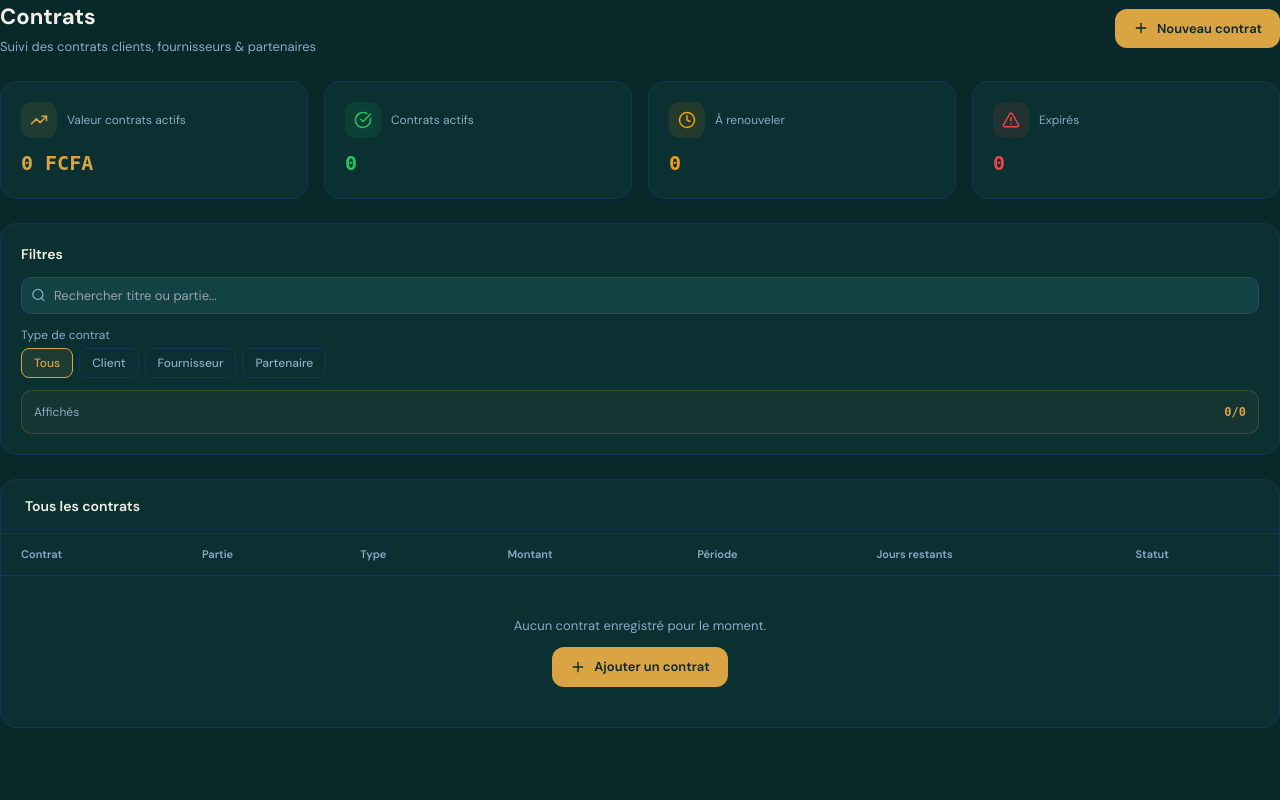
Test: ContratsPage › ajout › ouvre puis ferme le formulaire
The image size is (1280, 800).
Expected: the text "Titre du contrat *" is not shown
Click the button "Nouveau contrat": (1197, 28) [1115,8,1279,48]
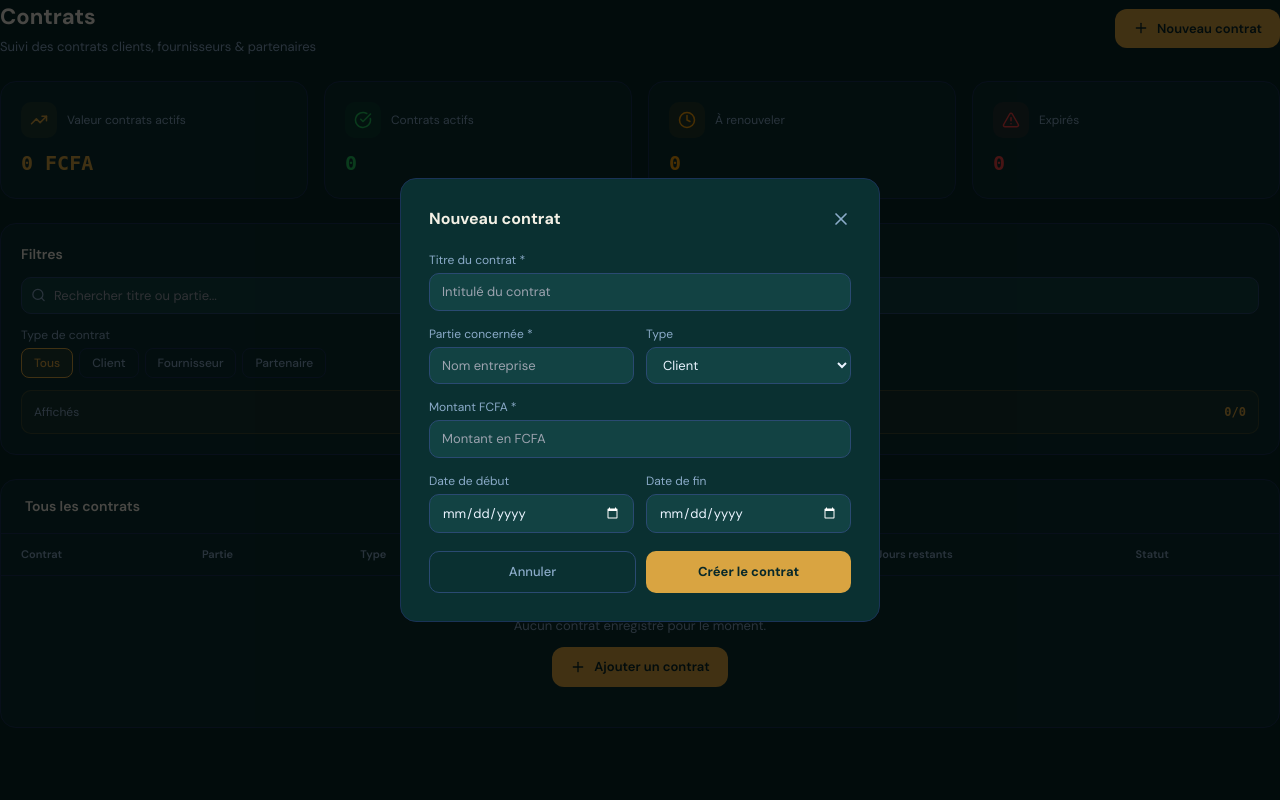
Now the text "Titre du contrat *" is shown, box [429,252,525,268]
Click the button "Annuler": (532, 572) [429,551,636,593]
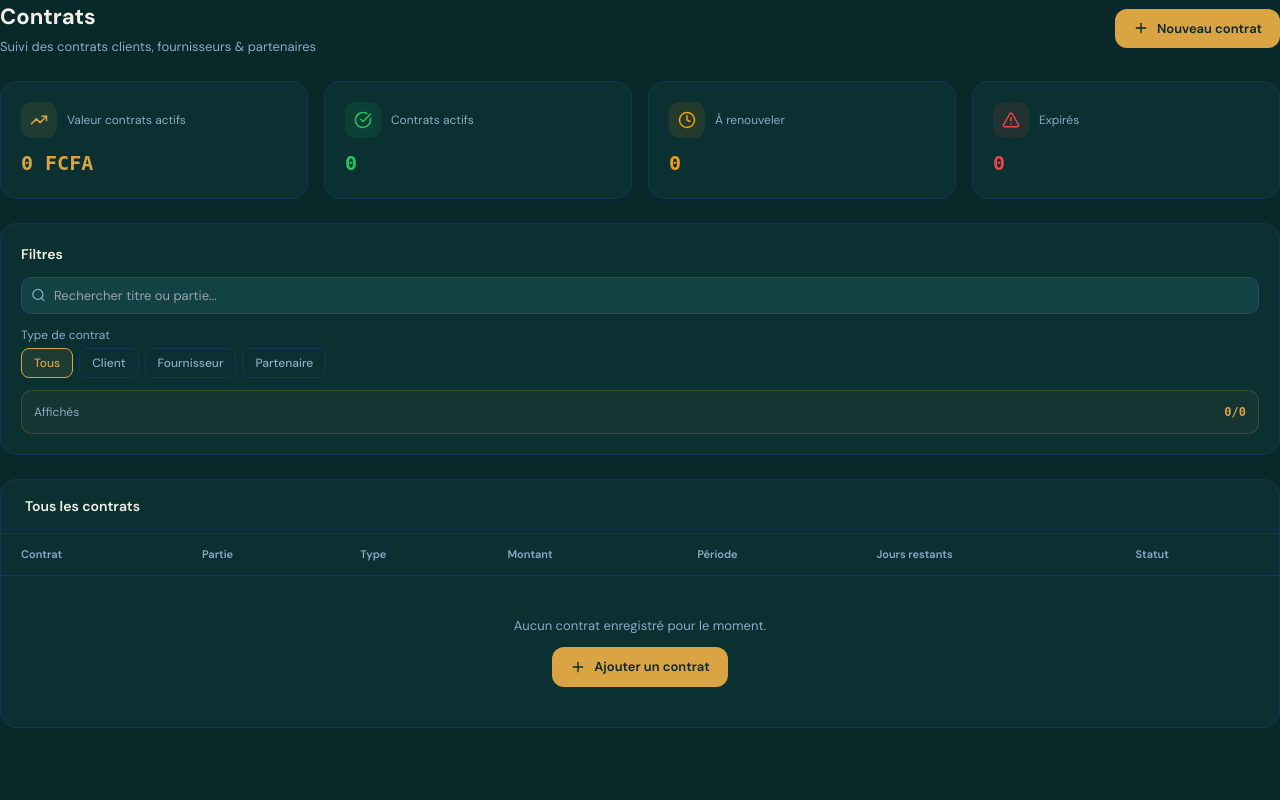
Now the text "Titre du contrat *" is gone
